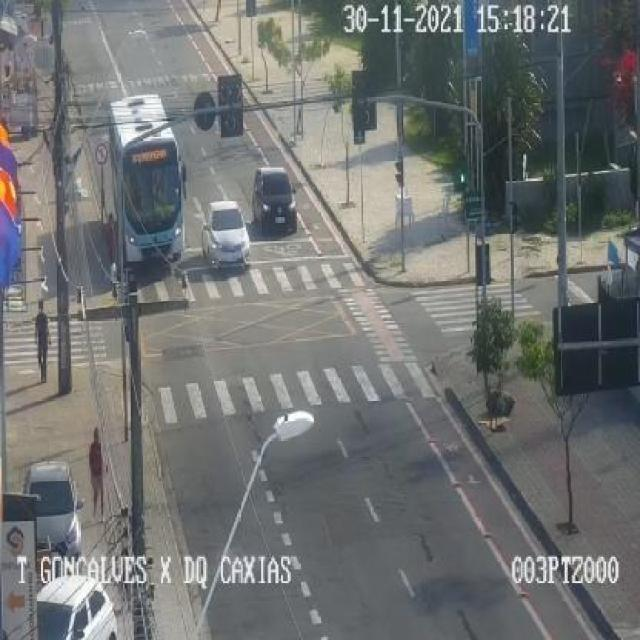Bus: (108, 93, 188, 267)
Car: (22, 461, 85, 562), (36, 576, 116, 638), (200, 201, 250, 270), (252, 168, 296, 235)
